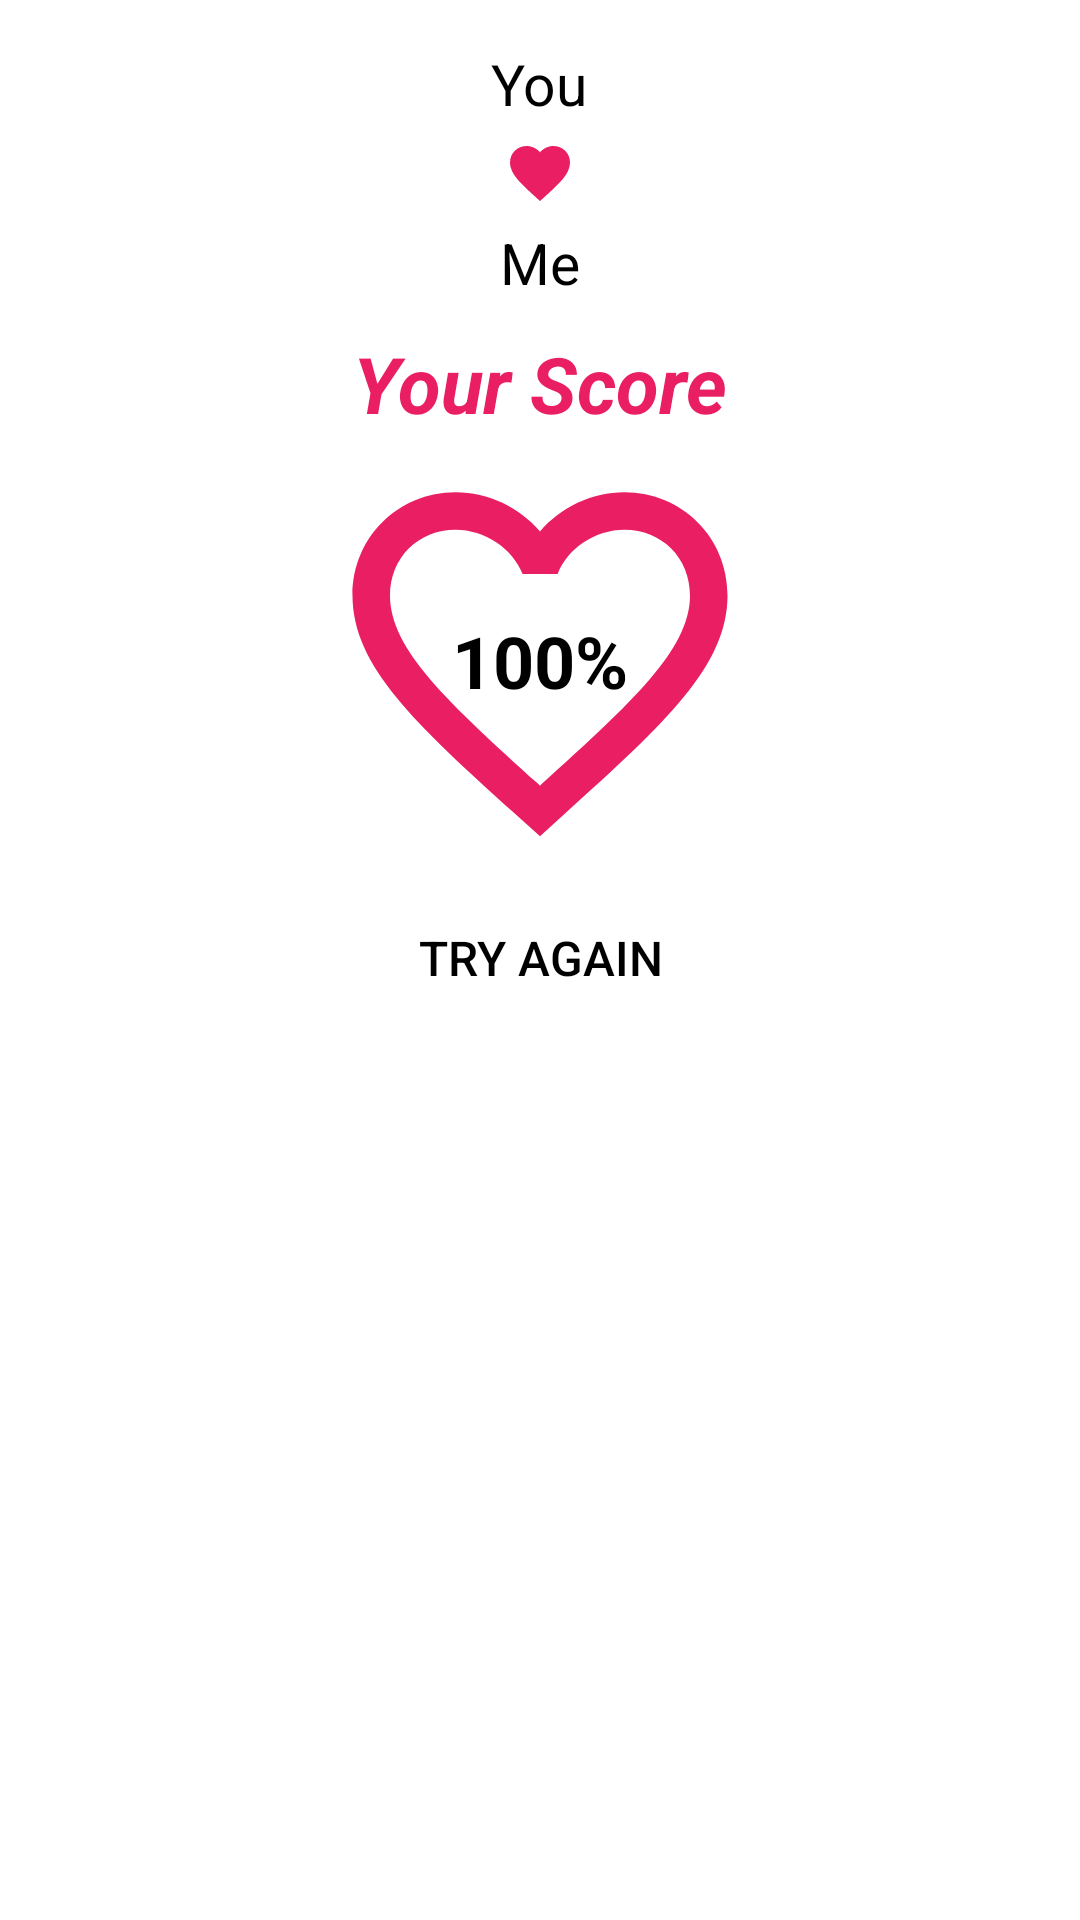

Screen size 1080px x 1920px. Icon name, then its box in pixels as (x1, y1, x2, y2):
love: (510, 146, 570, 201)
